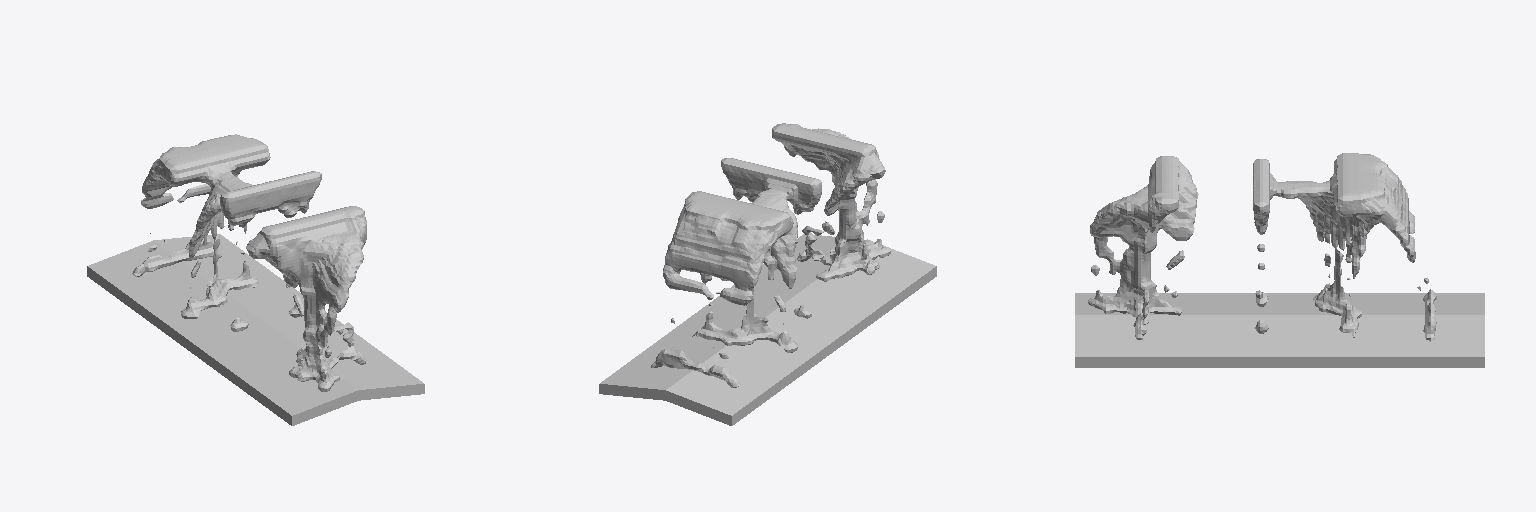
Rendered from Watersim_000020.obj.
3 views of the same model, side by side, from view 1: azimuth 30°, elevation 25°; view 2: azimuth 150°, elevation 25°; view 3: azimuth 270°, elevation 25° (orthographic).
Visible parts, largest first — view 1: Domain_Cube.006, Straße_Cube.007; view 2: Domain_Cube.006, Straße_Cube.007; view 3: Straße_Cube.007, Domain_Cube.006.
Boxes of the visible parts, x1=… form: Domain_Cube.006: x1=132, y1=134, x2=366, y2=391; Straße_Cube.007: x1=87, y1=234, x2=424, y2=425; Domain_Cube.006: x1=651, y1=123, x2=890, y2=387; Straße_Cube.007: x1=599, y1=234, x2=936, y2=425; Straße_Cube.007: x1=1075, y1=293, x2=1484, y2=367; Domain_Cube.006: x1=1088, y1=153, x2=1436, y2=341.
Size of the model in its own units: 2.26 by 2.59 by 6.06.